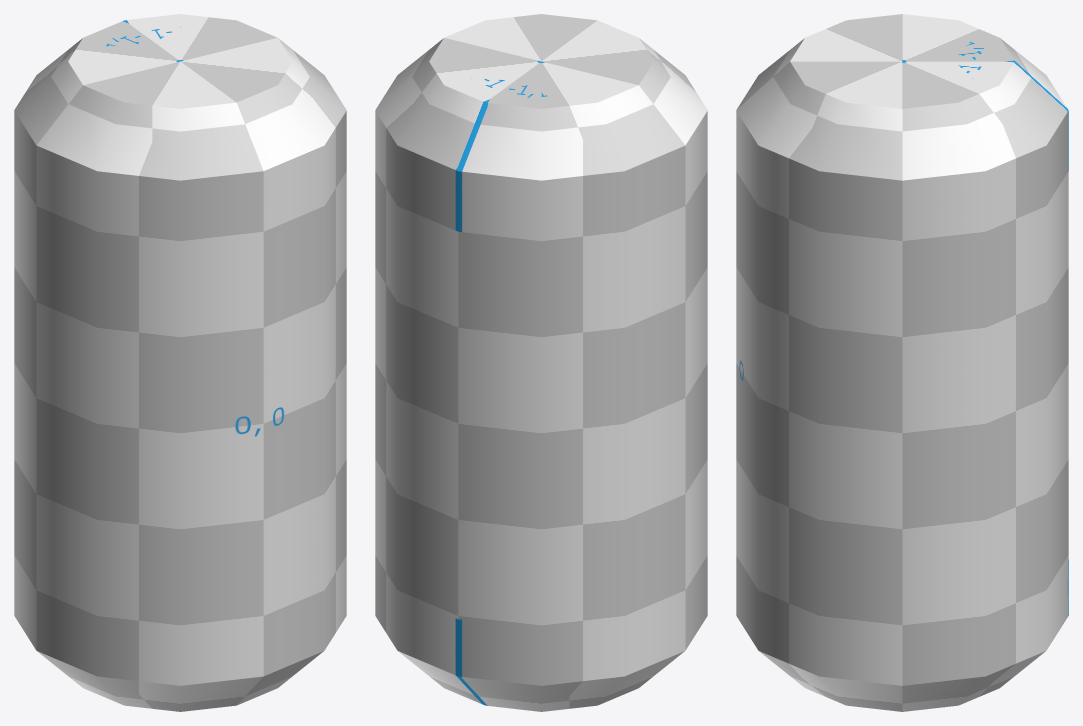
Rendered from player.fbx.
3 renders of one model, left to right at view 1: azimuth 30°, elevation 25°; view 2: azimuth 150°, elevation 25°; view 3: azimuth 270°, elevation 25°, orthographic.
Parts seen in each view (by area): view 1: player; view 2: player; view 3: player.
Part boxes in pixels (box(x1,y1,x2,y2)): player: box(14, 14, 346, 711); player: box(375, 14, 707, 711); player: box(736, 14, 1068, 711).
Bounding box in the file's own units: 0.0254 × 0.0508 × 0.0254.
